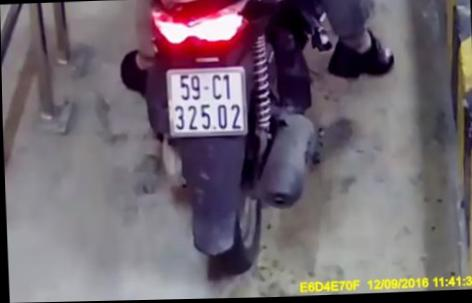LP: (164, 65, 249, 141)
